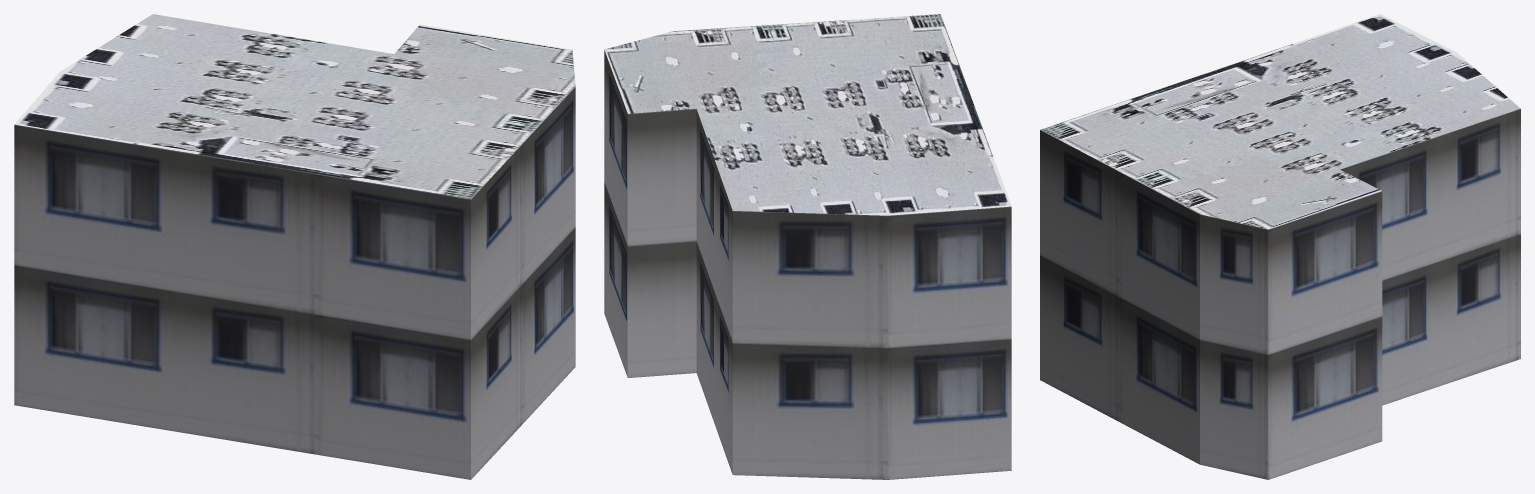
Rendered from ResTex__1450.fbx.
3 renders of one model, left to right at view 1: azimuth 30°, elevation 25°; view 2: azimuth 150°, elevation 25°; view 3: azimuth 270°, elevation 25°, orthographic. The views are drawn at different scales.
Visible parts, largest first — view 1: CityEngineMaterial_9_m, CityEngineMaterial_4_m; view 2: CityEngineMaterial_9_m, CityEngineMaterial_4_m; view 3: CityEngineMaterial_9_m, CityEngineMaterial_4_m.
Boxes of the visible parts, <box> form: CityEngineMaterial_9_m: <box>14,87,575,479</box>; CityEngineMaterial_4_m: <box>14,14,575,199</box>; CityEngineMaterial_9_m: <box>604,50,1011,479</box>; CityEngineMaterial_4_m: <box>604,14,1011,215</box>; CityEngineMaterial_9_m: <box>1040,108,1520,479</box>; CityEngineMaterial_4_m: <box>1040,14,1520,229</box>.
Size of the model in its own units: 11.08 by 6 by 10.44.
2 materials, 2 textured.
